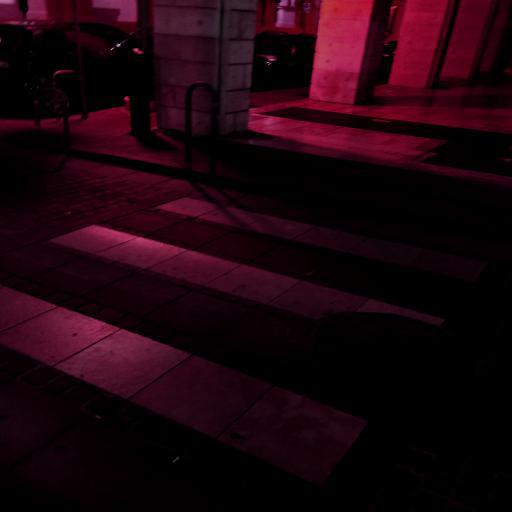crosswalk: (32, 192, 494, 358)
